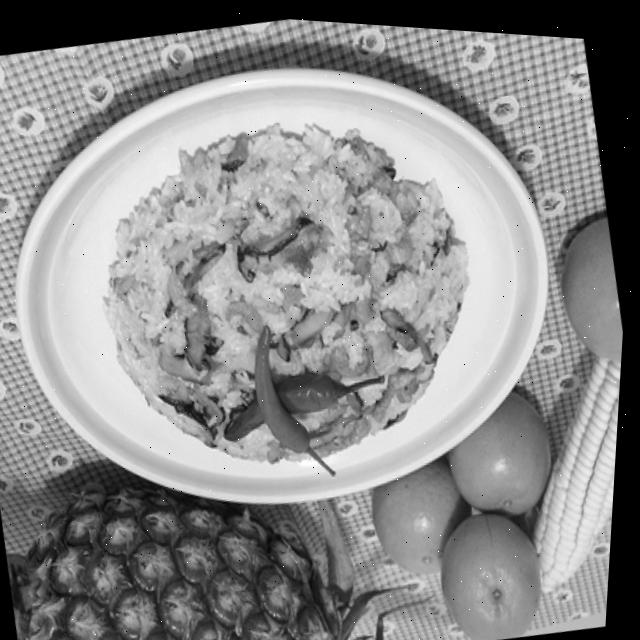米饭主食: (5, 10, 596, 574)
